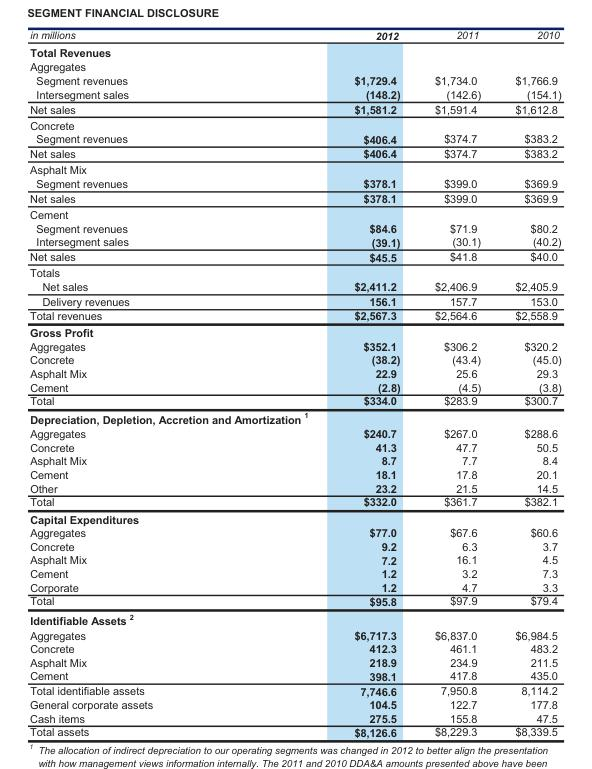table: (29, 28, 560, 737)
table column: (29, 28, 252, 737), (252, 28, 416, 737), (416, 28, 497, 737), (497, 28, 560, 737)
table column header: (29, 28, 560, 43)
table projected row header: (29, 408, 560, 426), (29, 609, 560, 627), (29, 43, 560, 59), (29, 323, 560, 339), (29, 116, 560, 131), (29, 161, 560, 176), (29, 206, 560, 221), (29, 264, 560, 279), (29, 510, 560, 525), (29, 59, 560, 73)
table row: (29, 408, 560, 426), (29, 609, 560, 627), (29, 43, 560, 59), (29, 190, 560, 206), (29, 323, 560, 339), (29, 494, 560, 510), (29, 593, 560, 609), (29, 28, 560, 43), (29, 101, 560, 116), (29, 116, 560, 131), (29, 131, 560, 146), (29, 146, 560, 161), (29, 161, 560, 176), (29, 206, 560, 221), (29, 234, 560, 249), (29, 249, 560, 264), (29, 264, 560, 279), (29, 293, 560, 308), (29, 308, 560, 323), (29, 393, 560, 408), (29, 510, 560, 525), (29, 668, 560, 683), (29, 59, 560, 73), (29, 73, 560, 87), (29, 87, 560, 101), (29, 176, 560, 190), (29, 279, 560, 293), (29, 352, 560, 366), (29, 366, 560, 380), (29, 426, 560, 440), (29, 453, 560, 467), (29, 467, 560, 481), (29, 525, 560, 539), (29, 552, 560, 566), (29, 566, 560, 580), (29, 627, 560, 641), (29, 641, 560, 655), (29, 683, 560, 697), (29, 697, 560, 711), (29, 221, 560, 234), (29, 339, 560, 352), (29, 380, 560, 393), (29, 440, 560, 453), (29, 481, 560, 494), (29, 539, 560, 552), (29, 580, 560, 593), (29, 655, 560, 668), (29, 711, 560, 724), (29, 724, 560, 737)
